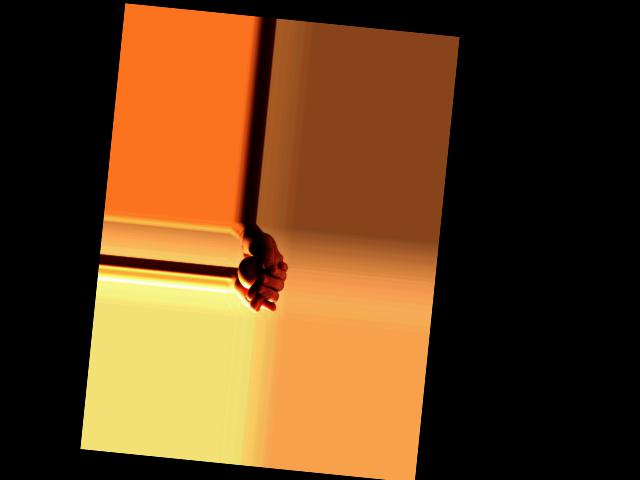egg: (236, 254, 261, 289)
